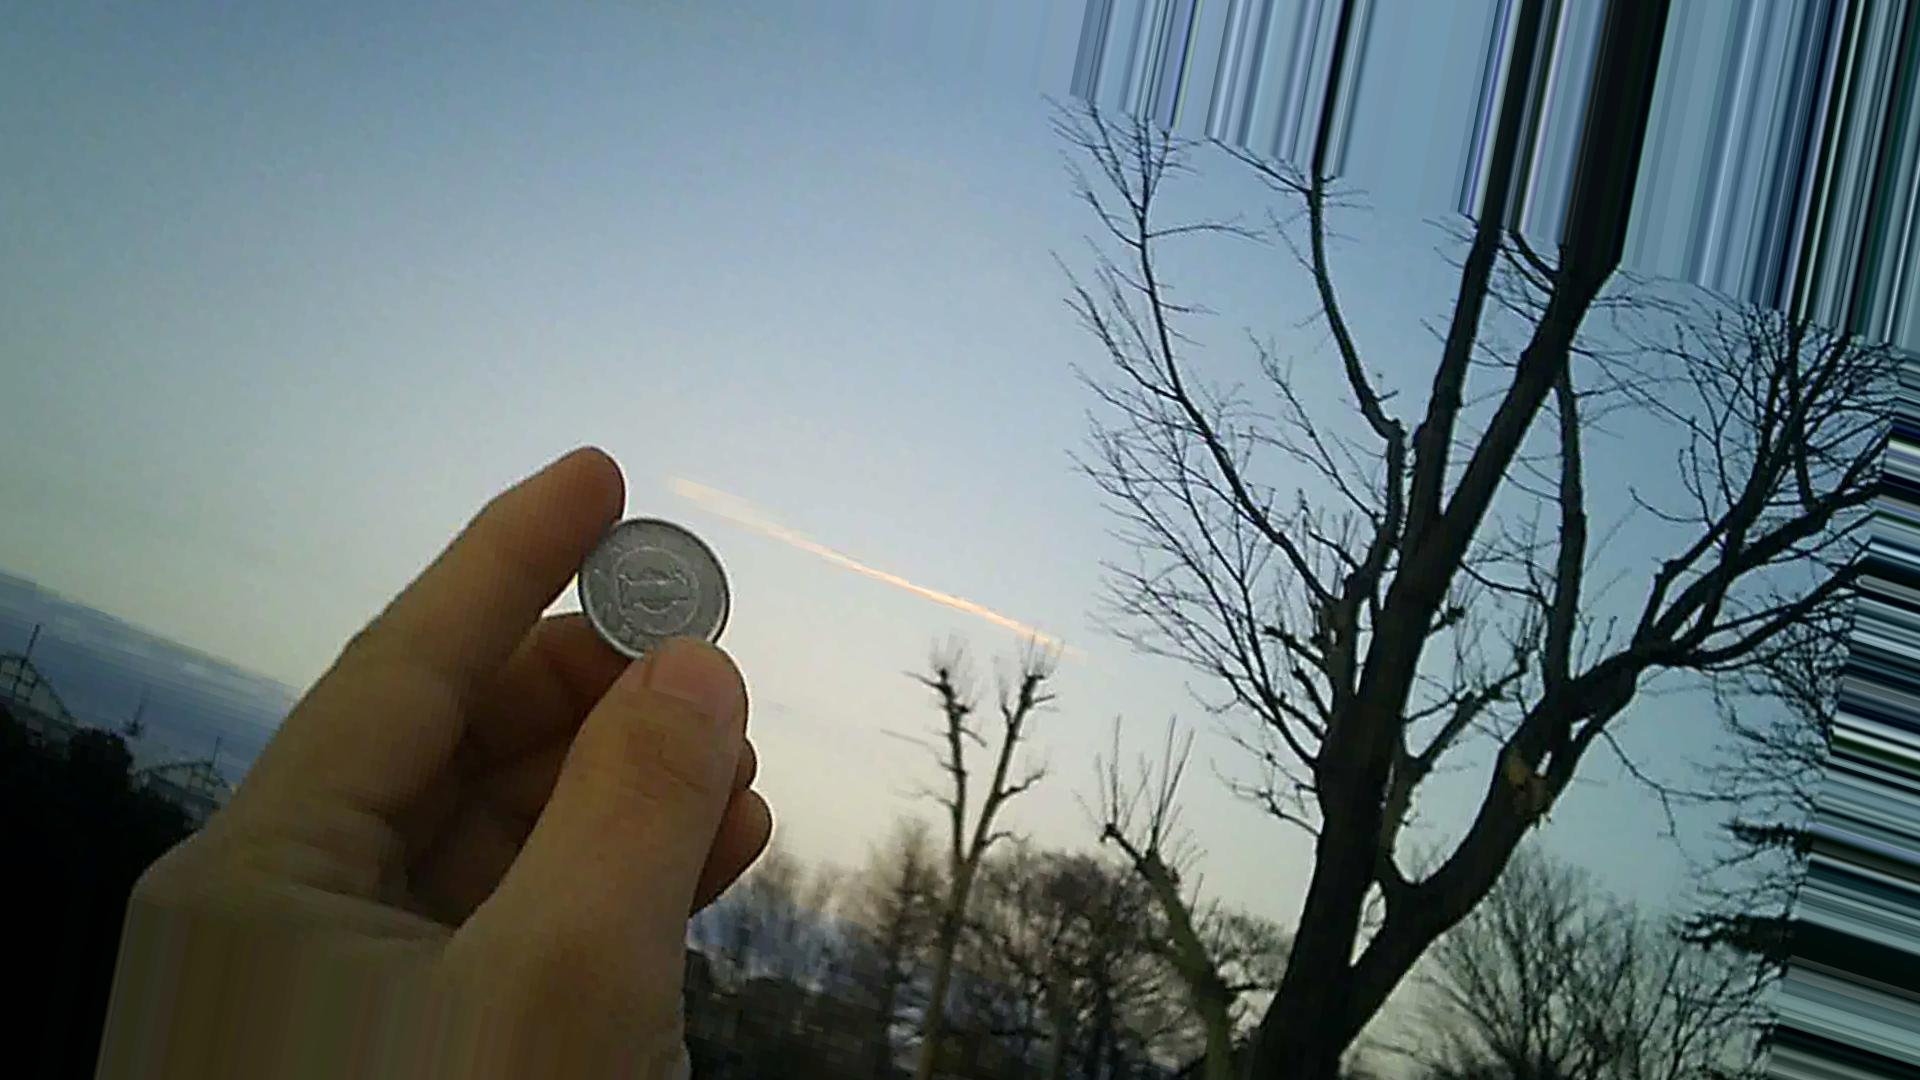1 Yen: (566, 504, 744, 663)
